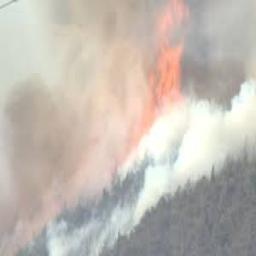Heavy smoke: (0, 0, 256, 256)
Large fire: (0, 2, 192, 253)
